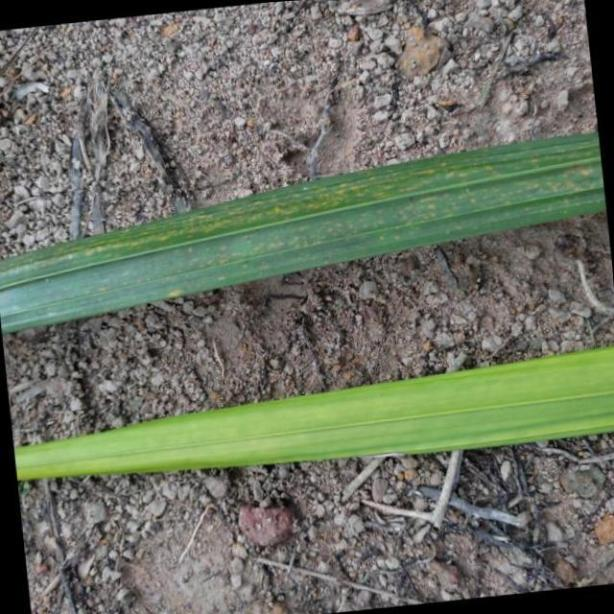nitrogen: (0, 342, 614, 481)
